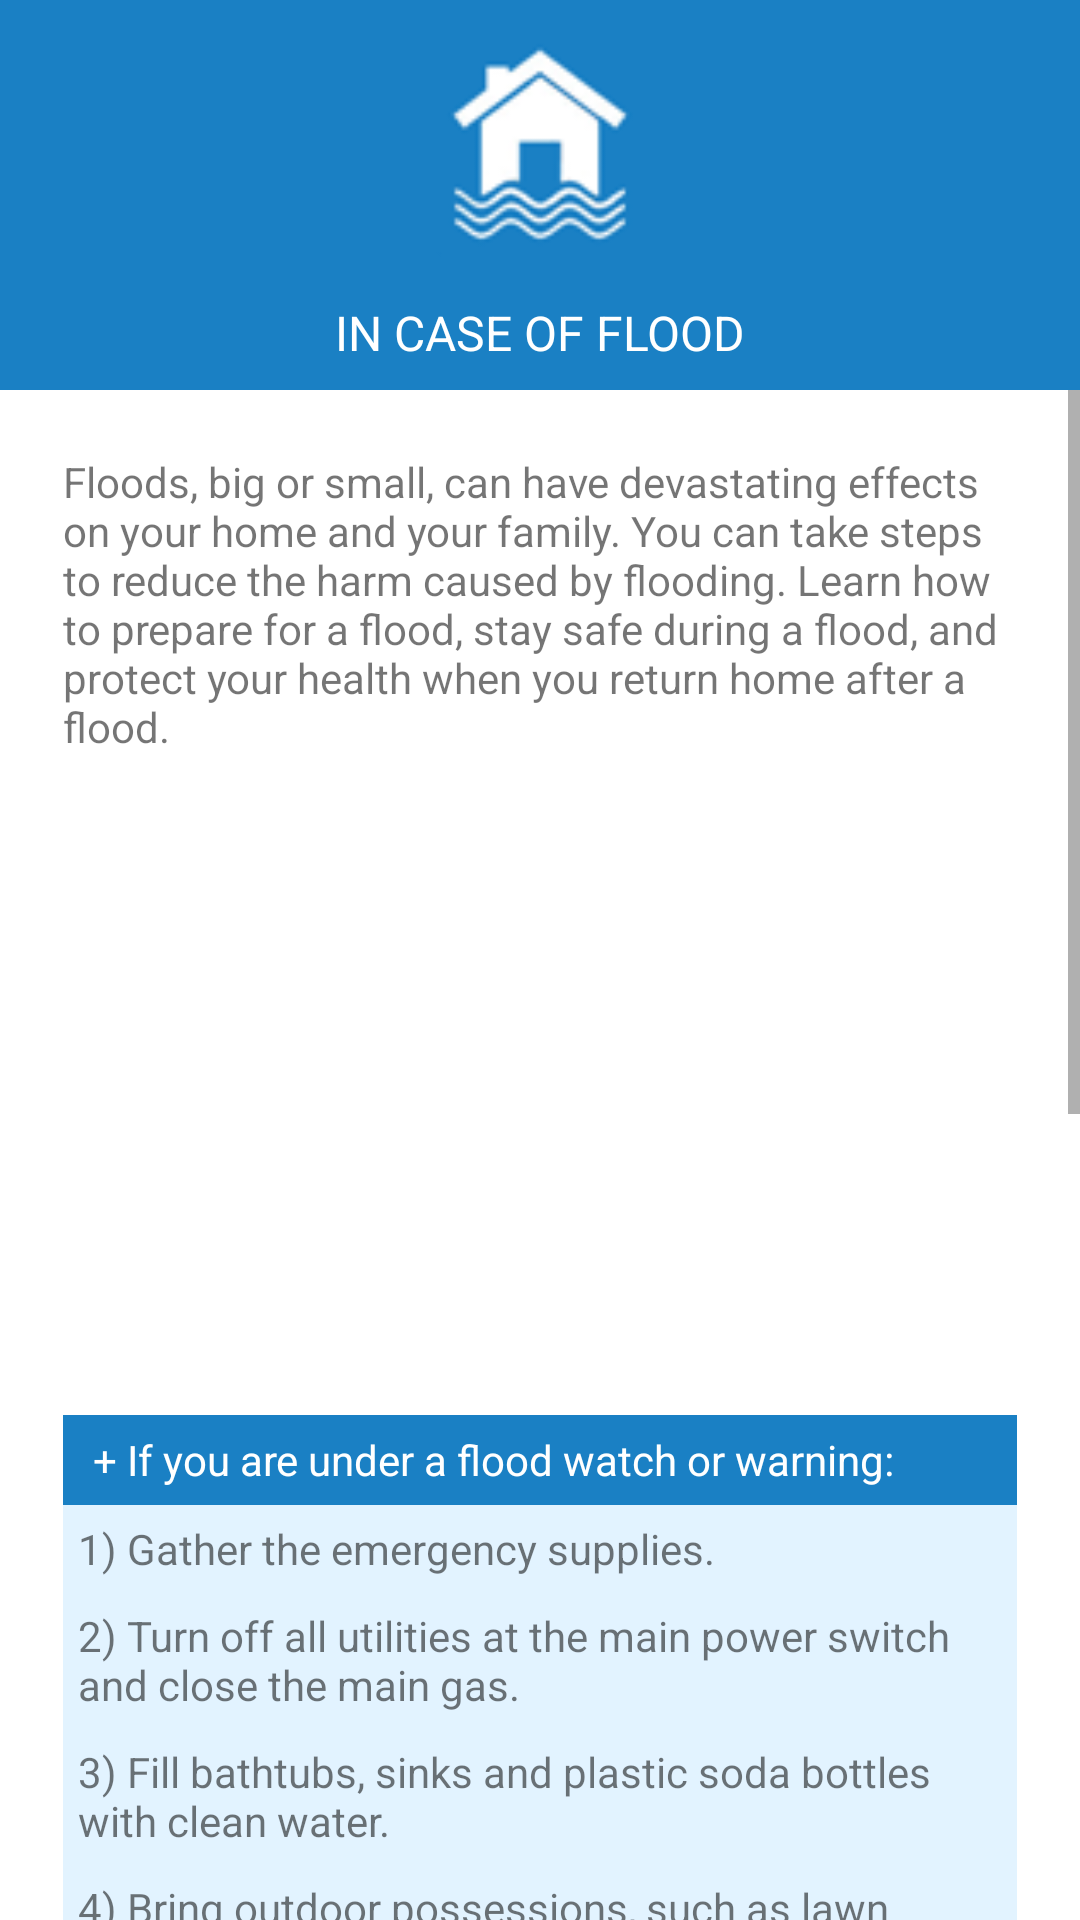

Icons on this 1080x1920 Android screen, each with the point to tap as point (x, y):
flood square: point (540, 144)
